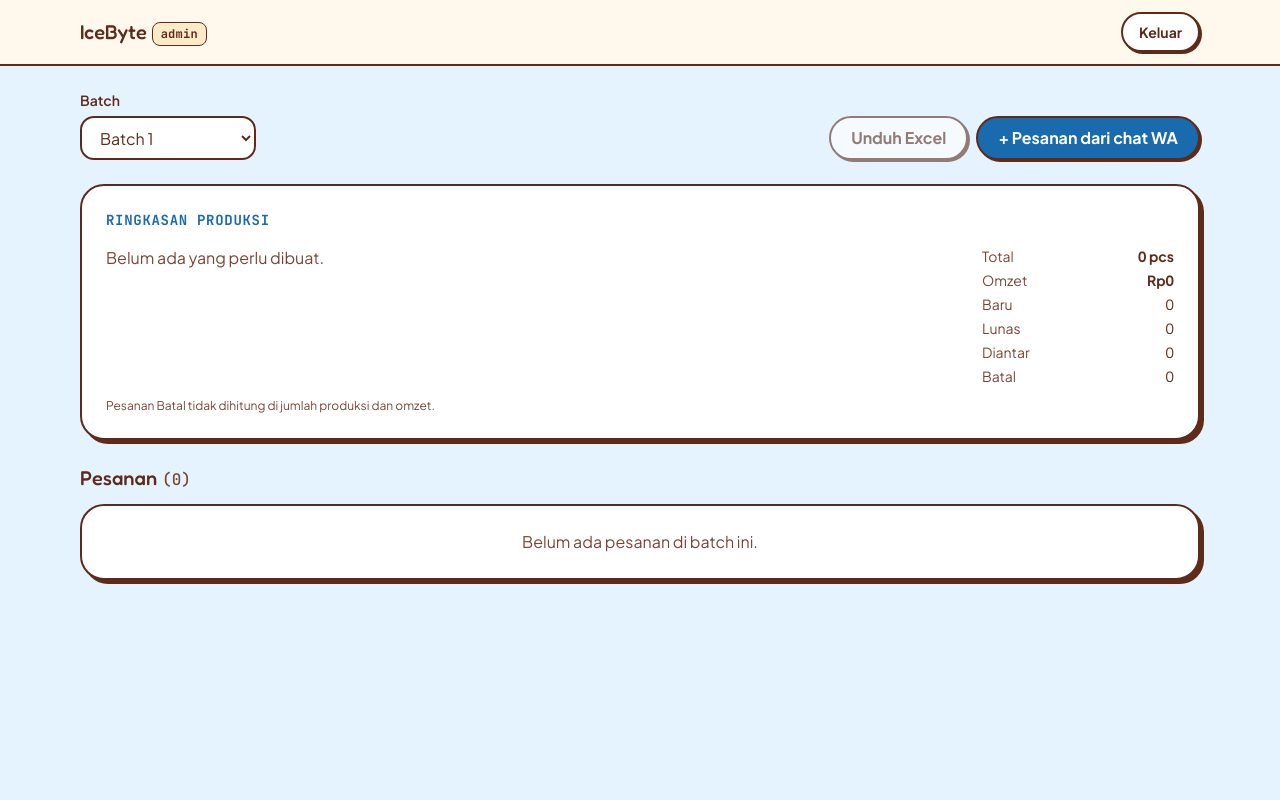
Scenario: AdminApp › ganti filter cepat: balasan batch lama yang datang terlambat tidak menimpa data filter terbaru
This screenshot has width=1280, height=800.
Note: Pindah ke "Semua" lalu cepat kembali ke Batch 1, lalu ke Semua lagi: urutan balasan diacak.
Select "Semua" in the dropdown labelled "Batch" at (168, 138), box [80, 116, 256, 160]
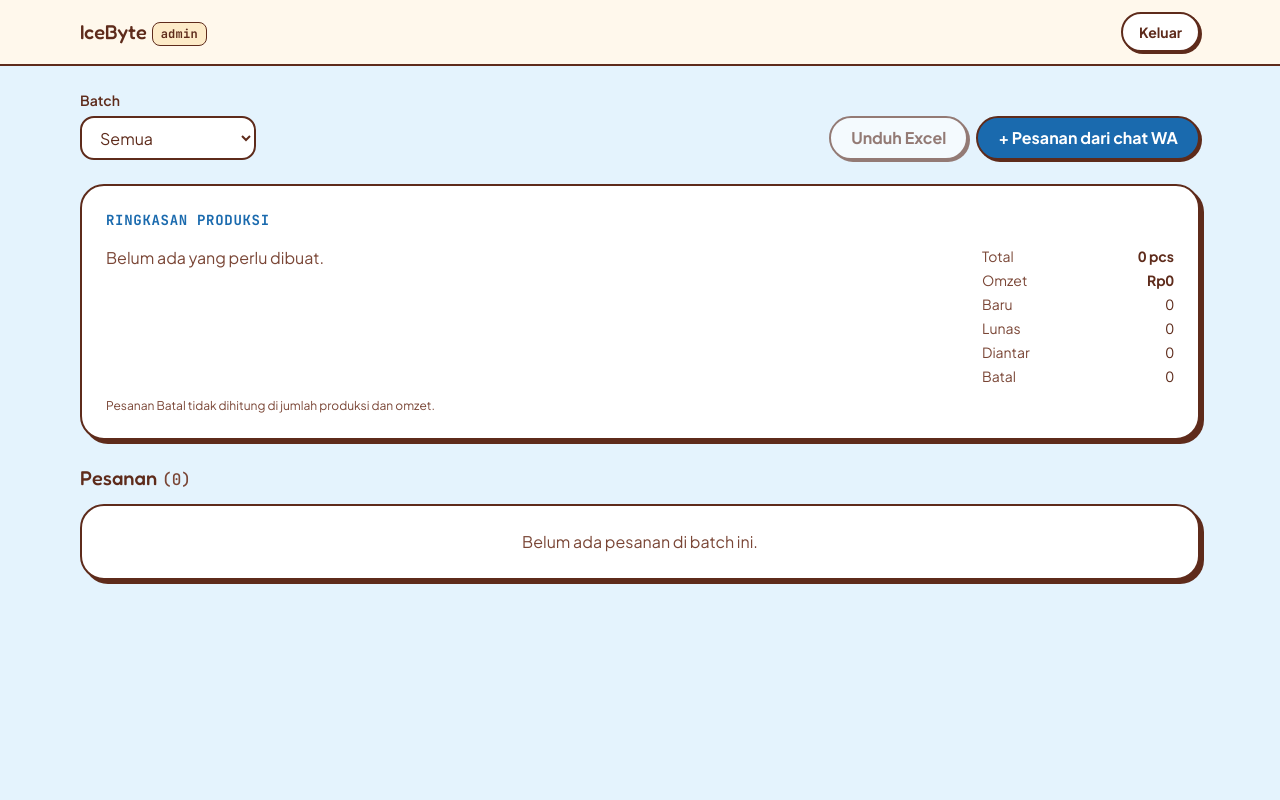
Select "Batch 1" in the dropdown labelled "Batch" at (168, 138), box [80, 116, 256, 160]
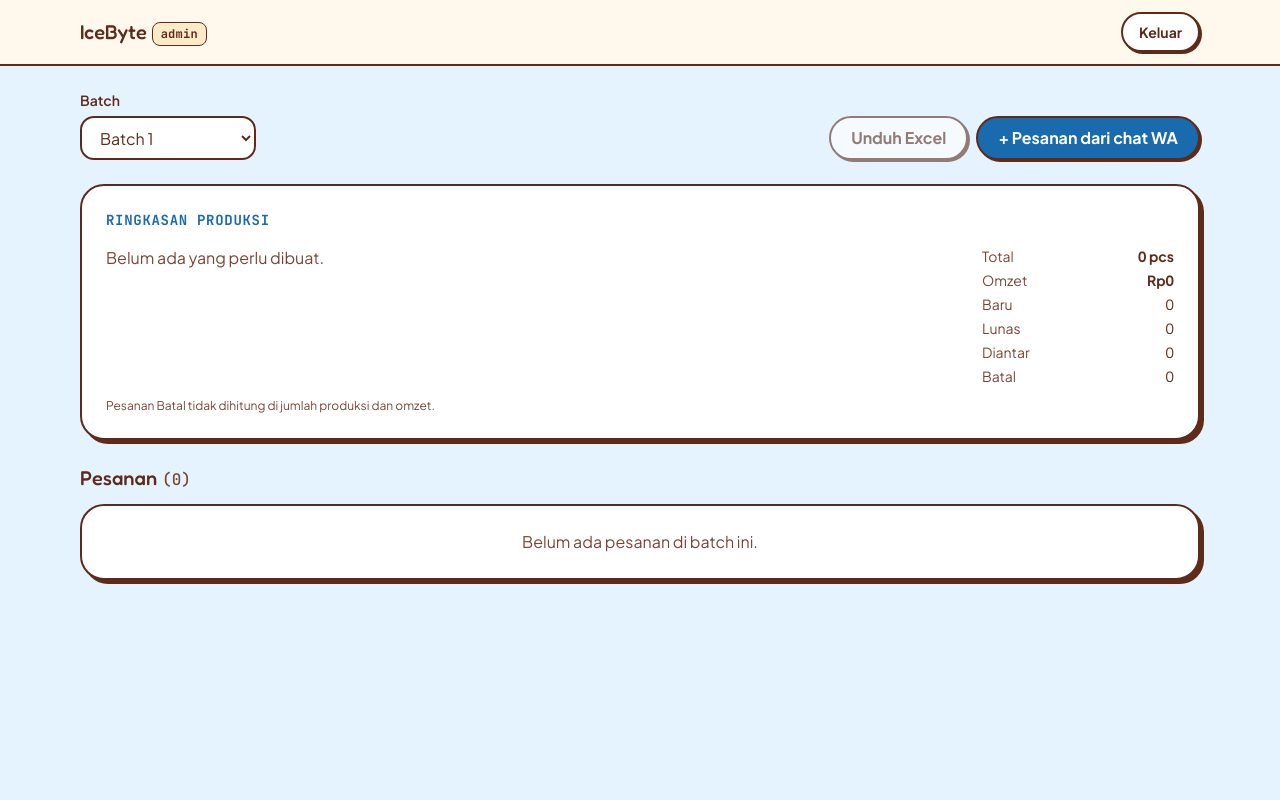
Select "Semua" in the dropdown labelled "Batch" at (168, 138), box [80, 116, 256, 160]
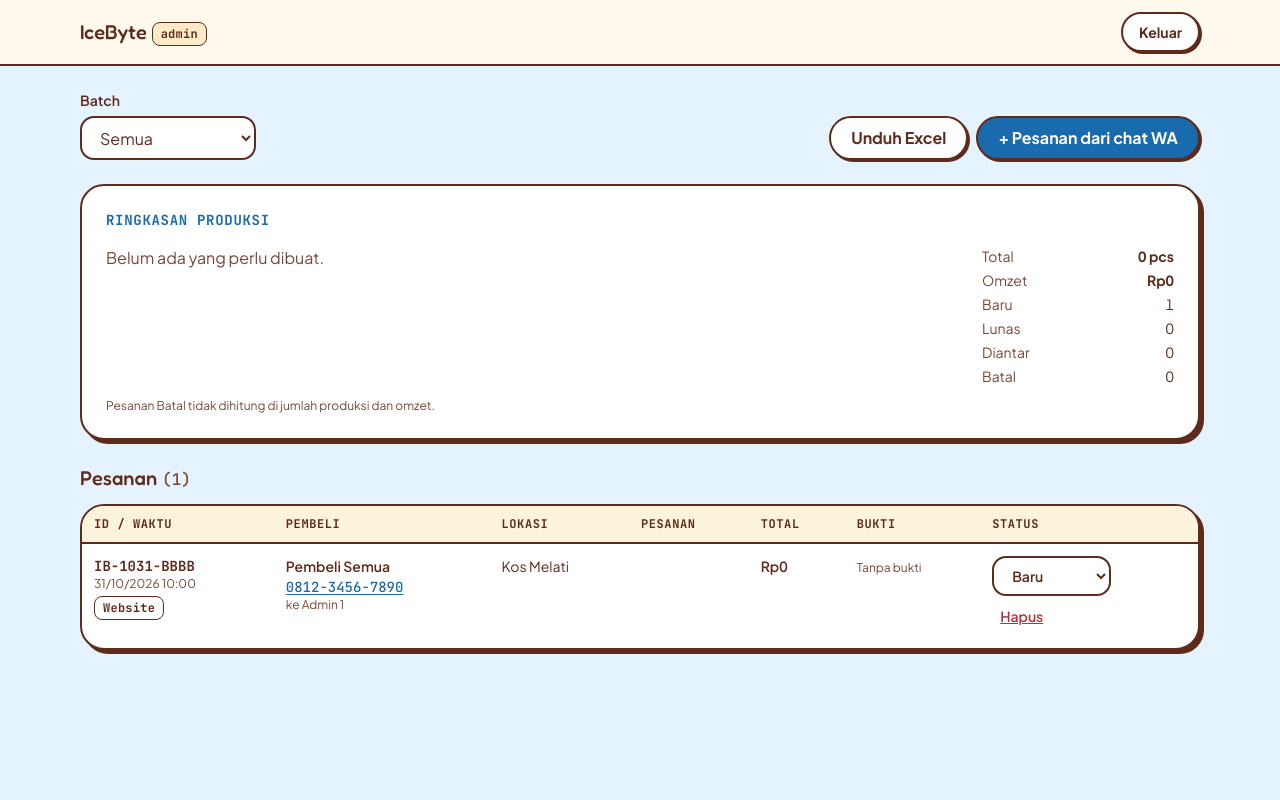
expect the text "Pembeli Semua" is shown: met, box [286, 557, 390, 575]
